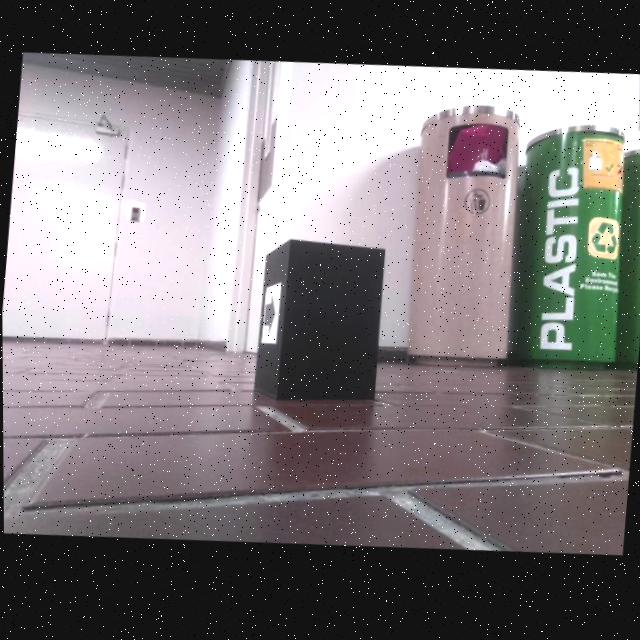RIGHT: (264, 296, 275, 338)
